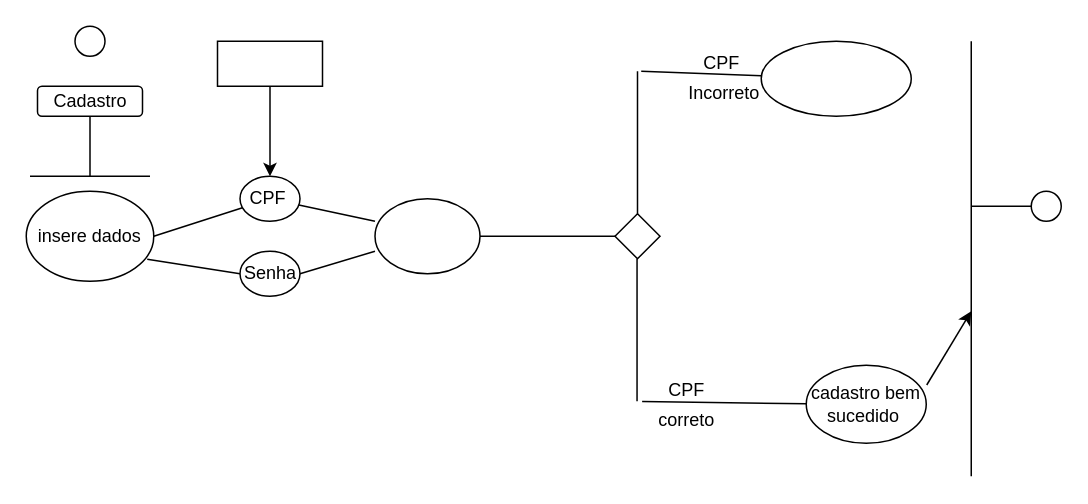
This 1088x504 diagram has some shape labels left out. Each missing label, with the box of its shape:
Consulta SSP: (216, 40, 322, 86)
continua na tela de cadastro: (760, 40, 911, 116)
Verificação de dados: (374, 197, 480, 274)
